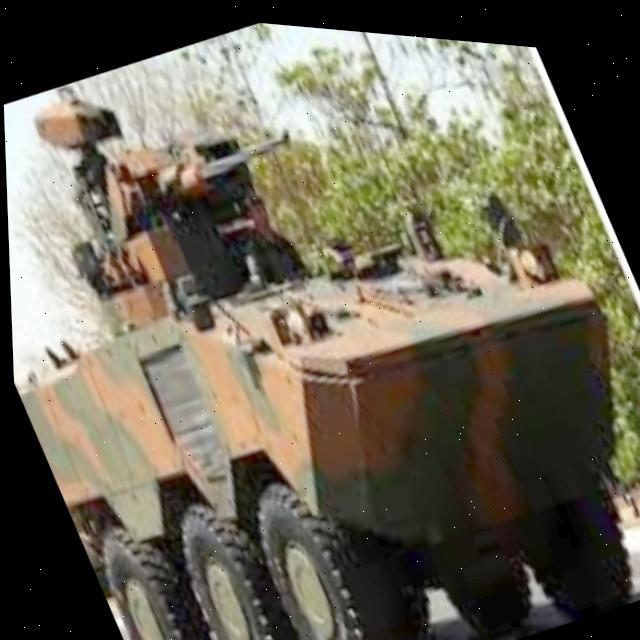MIL_APC: (1, 21, 640, 640)
